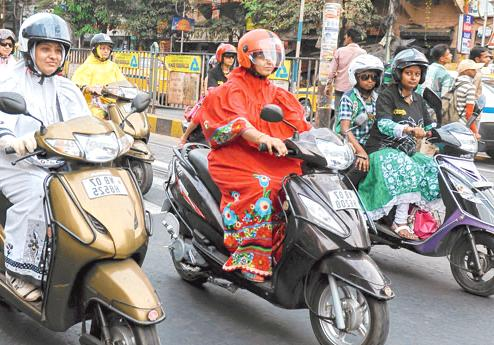With Helmet: (17, 9, 76, 78), (238, 26, 286, 78), (391, 45, 434, 93), (90, 28, 118, 62)
